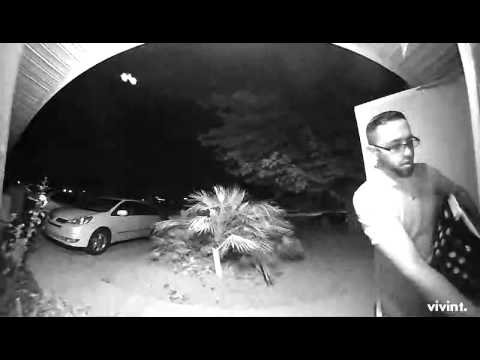person: (349, 86, 479, 301)
